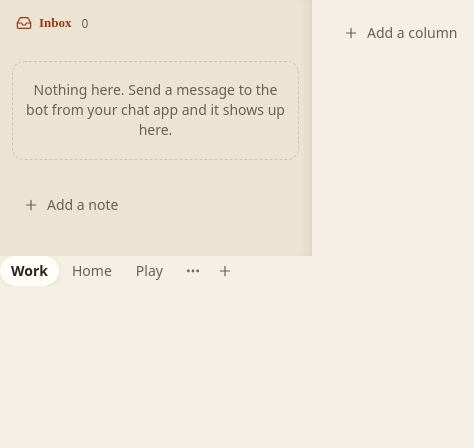
Scenario: moving pages through the menu › offers only the moves that are possible
Click the button named "Page options". click: [193, 271]
box: [178,256,208,286]
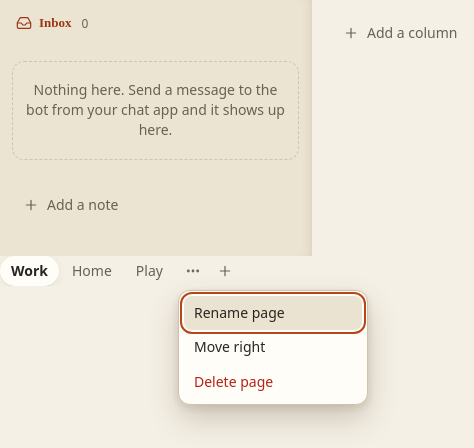
Result: the menu item "Move right" is shown at [184,330,362,365]
